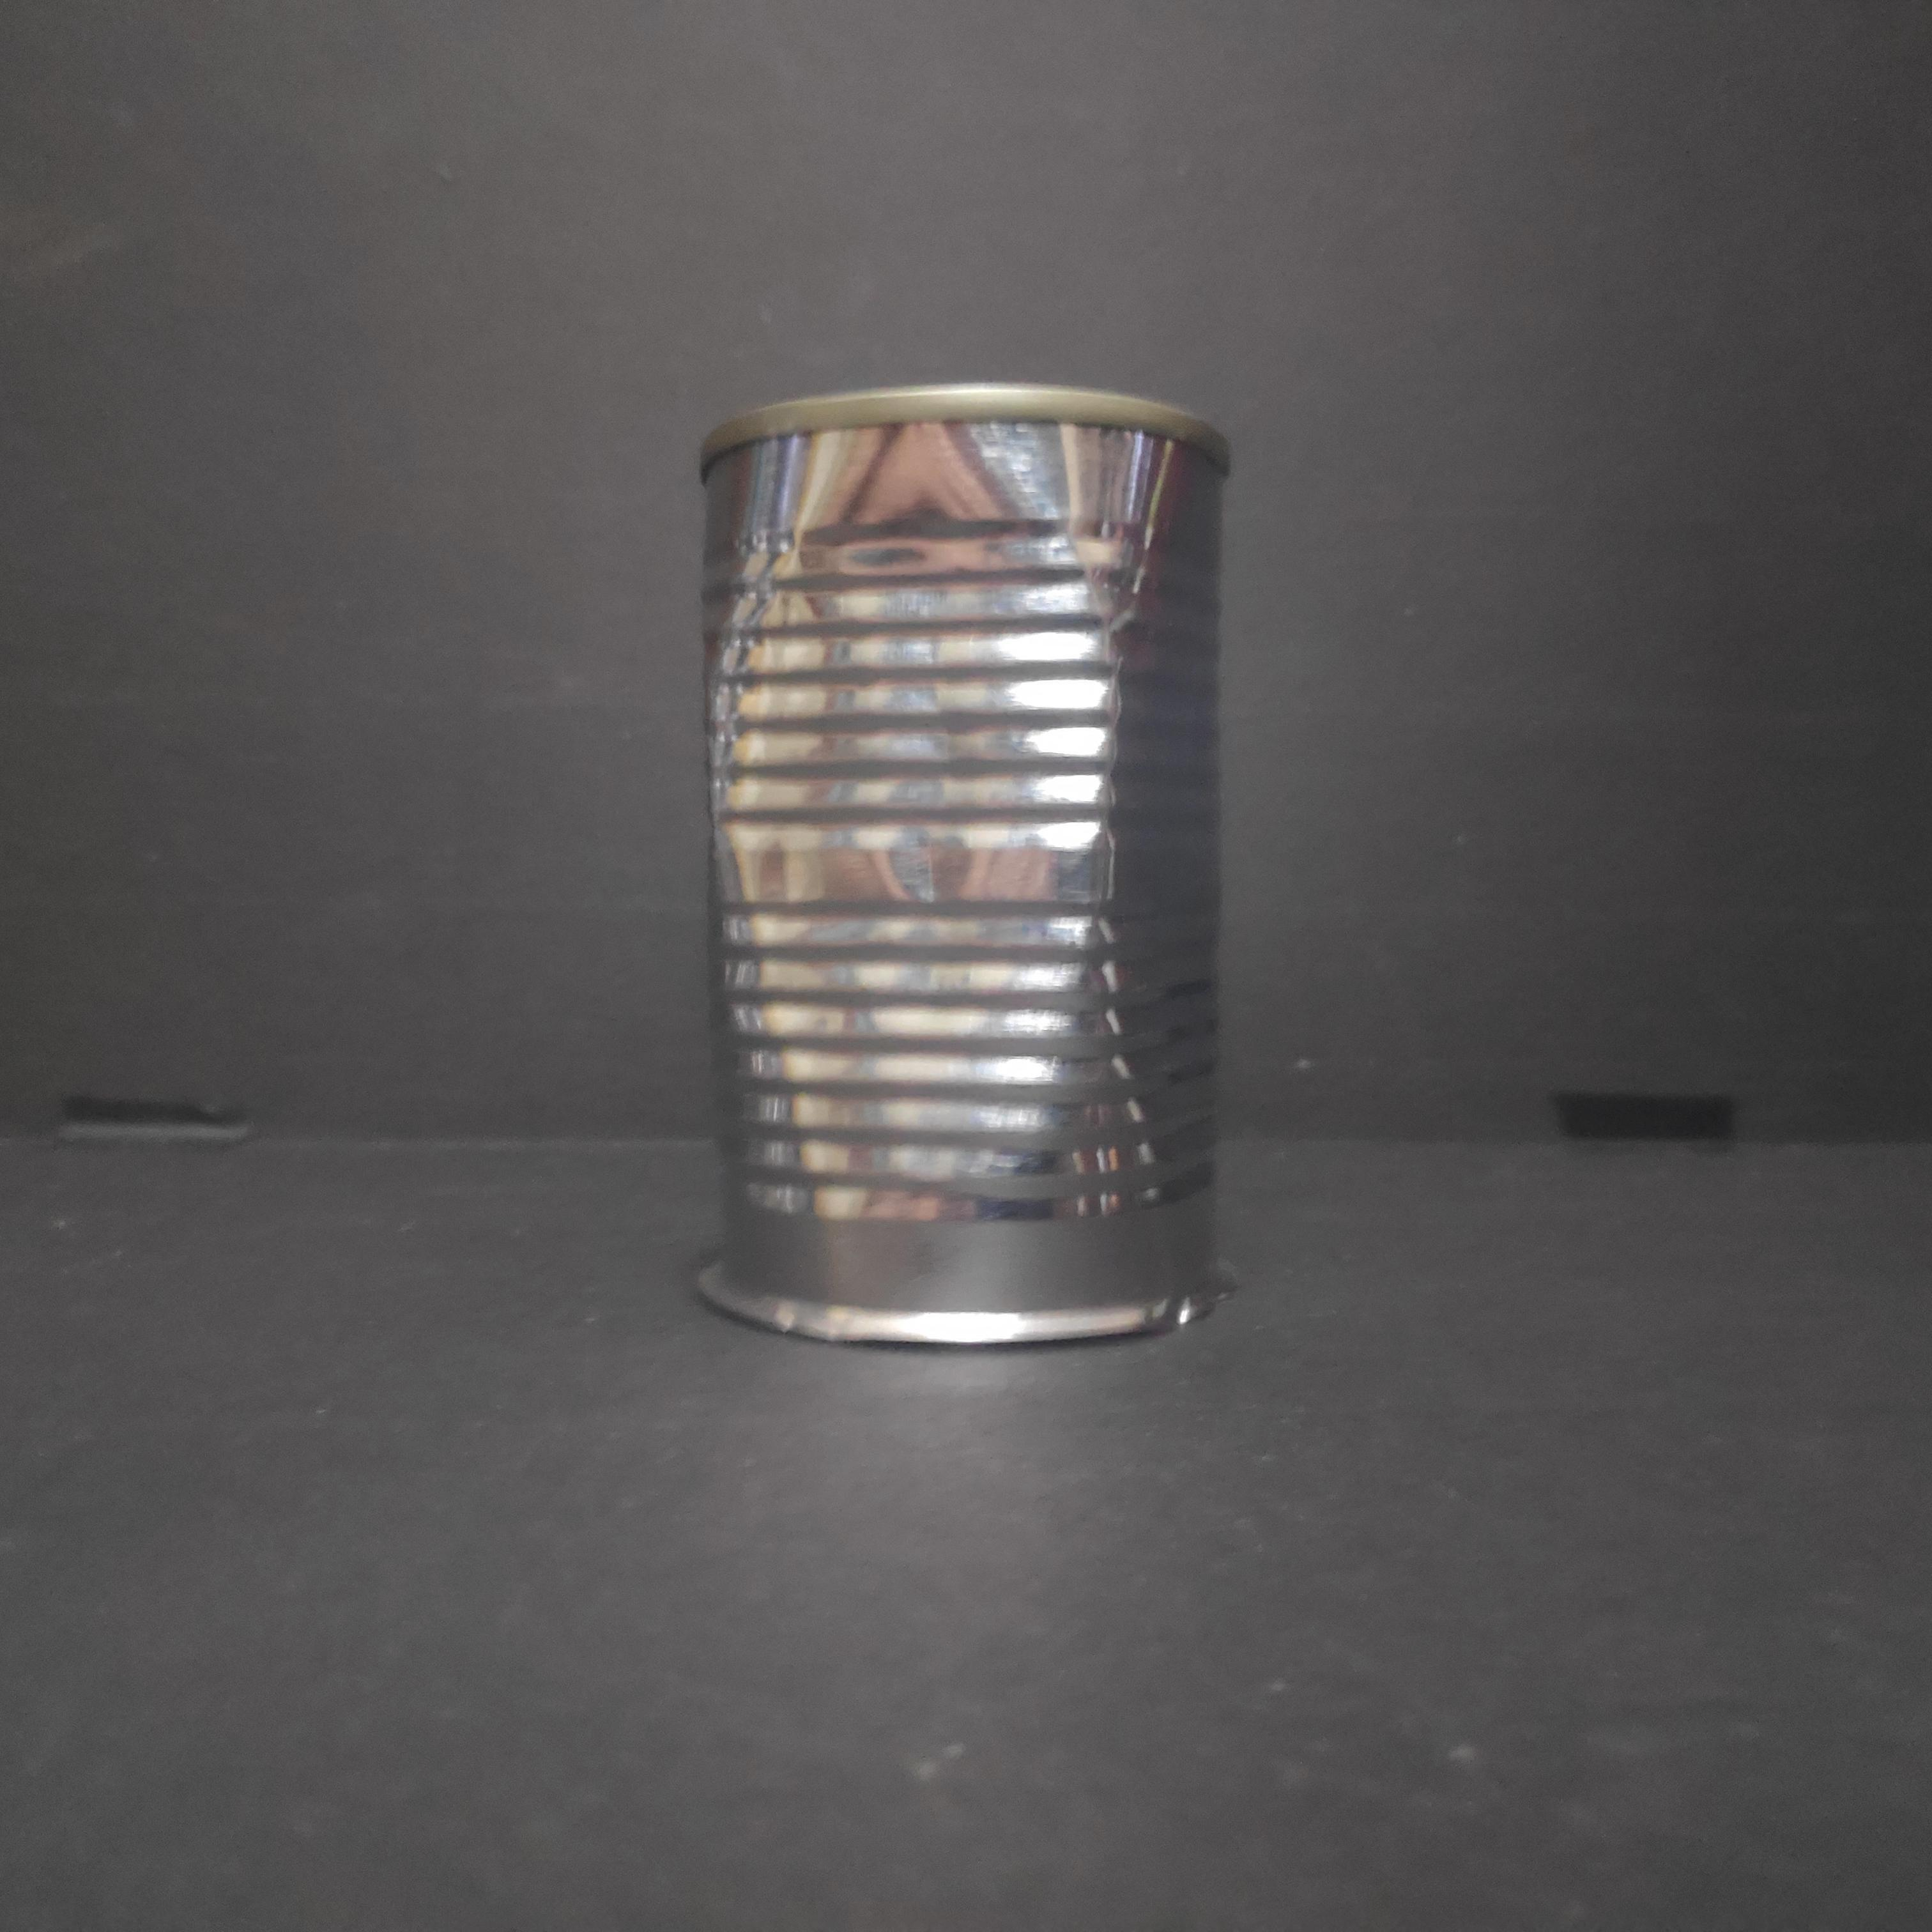Dented: (678, 364, 1253, 1368)
